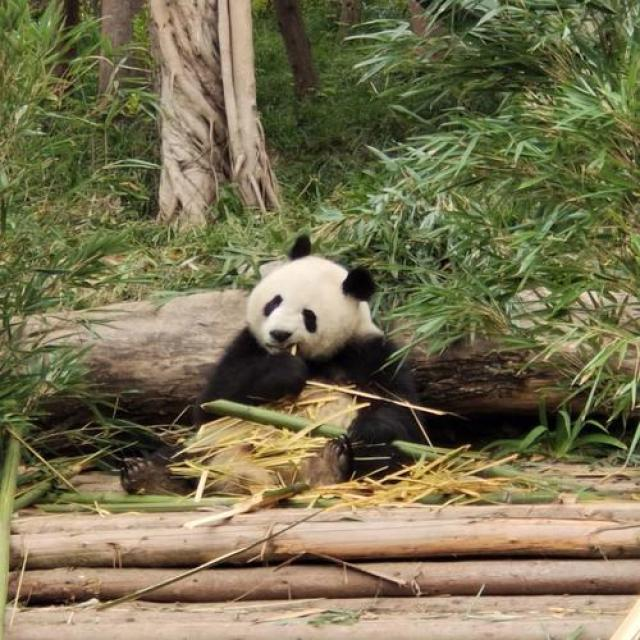panda: (112, 226, 462, 516)
